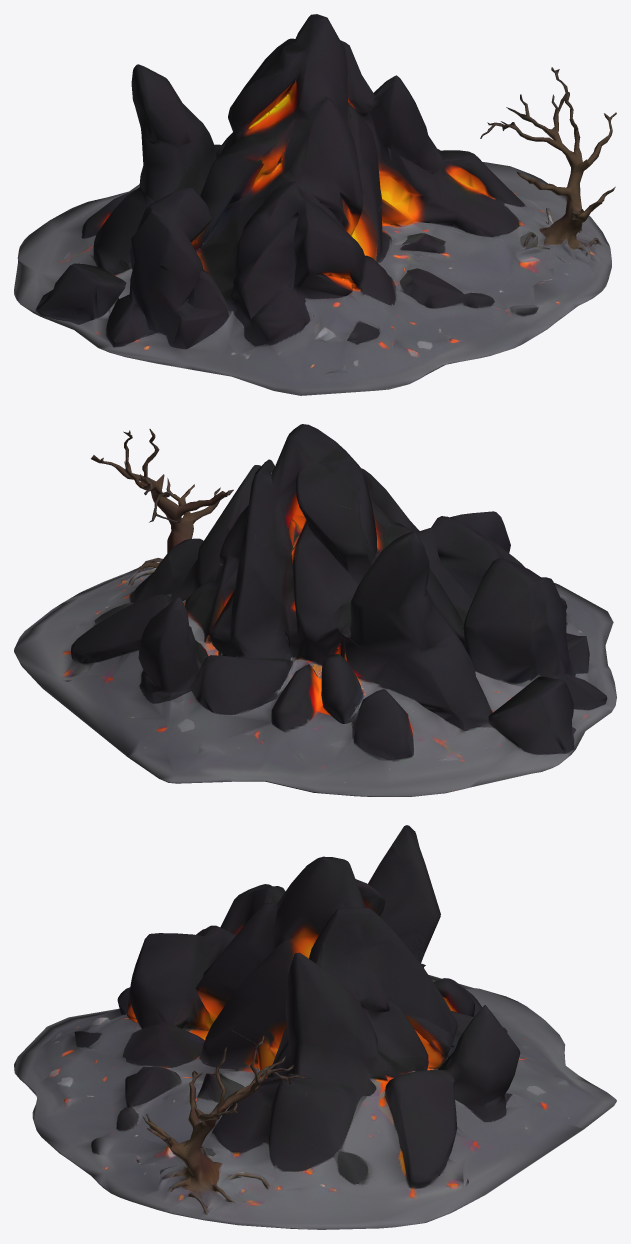
File: act3_rocks.glb
3 views of the same model, one above another, from view 1: azimuth 30°, elevation 25°; view 2: azimuth 150°, elevation 25°; view 3: azimuth 270°, elevation 25° (orthographic). The views are drawn at different scales.
Bounding box in the file's own units: 1.91 × 0.8374 × 1.84.
1 material, 1 textured.
